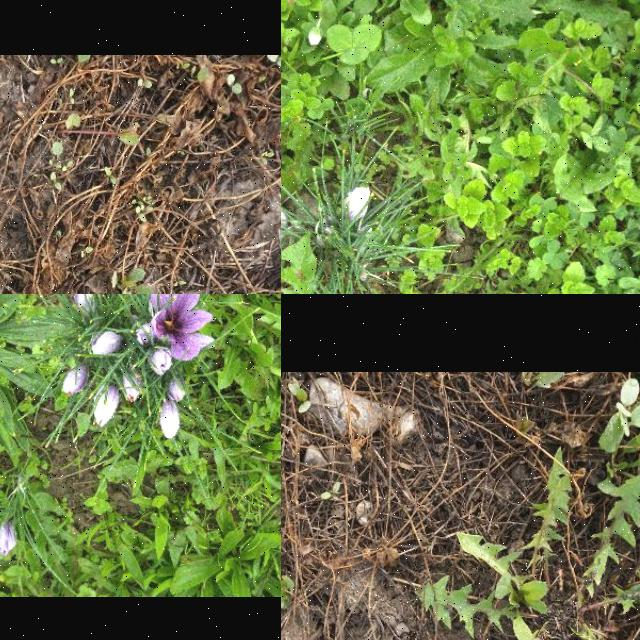flower: (149, 294, 217, 361), (94, 384, 120, 428), (344, 186, 371, 220), (89, 330, 123, 356), (62, 364, 88, 396), (159, 404, 181, 438), (151, 346, 173, 376), (124, 374, 144, 404), (0, 522, 17, 556), (166, 376, 186, 402), (136, 324, 158, 346), (73, 294, 97, 314), (281, 202, 289, 230)
